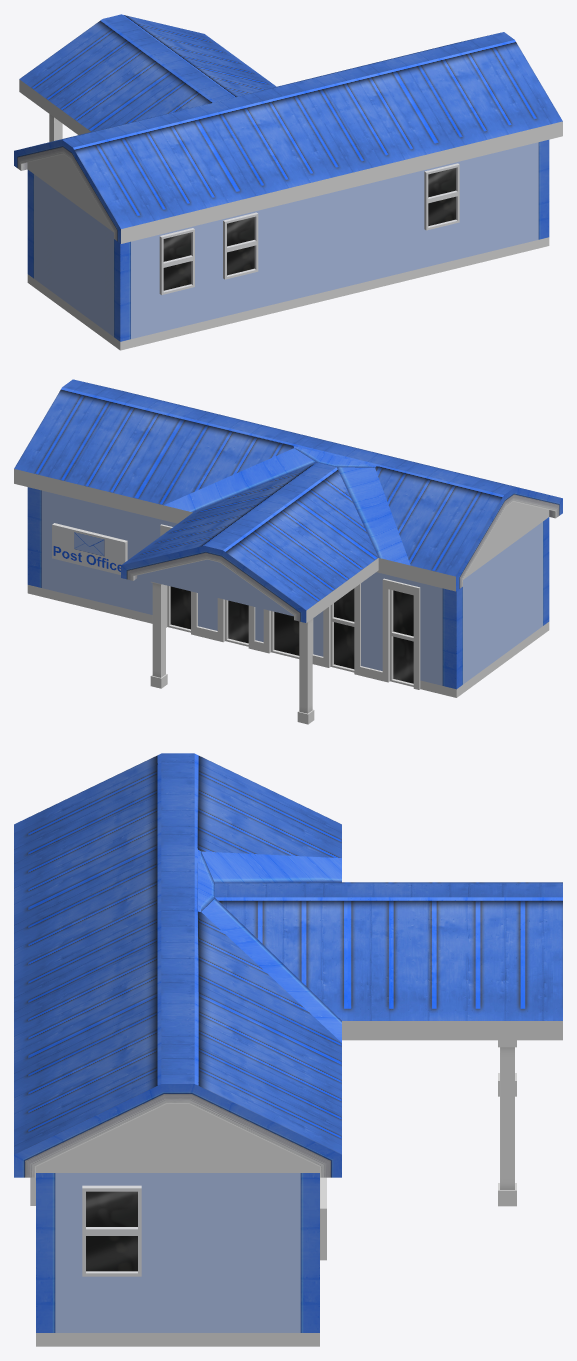
Rendered from post_office.dae.
The picture shows the model from 3 angles, top to bottom: view 1: azimuth 30°, elevation 25°; view 2: azimuth 150°, elevation 25°; view 3: azimuth 270°, elevation 25°; orthographic projection. The views are drawn at different scales.
Parts seen in each view (by area): view 1: Post_Office; view 2: Post_Office; view 3: Post_Office.
Boxes of the visible parts, x1,y1,x2,y2 form: Post_Office: (14, 14, 562, 350); Post_Office: (14, 379, 562, 724); Post_Office: (14, 753, 562, 1346).
Bounding box in the file's own units: 410 × 288 × 155.
